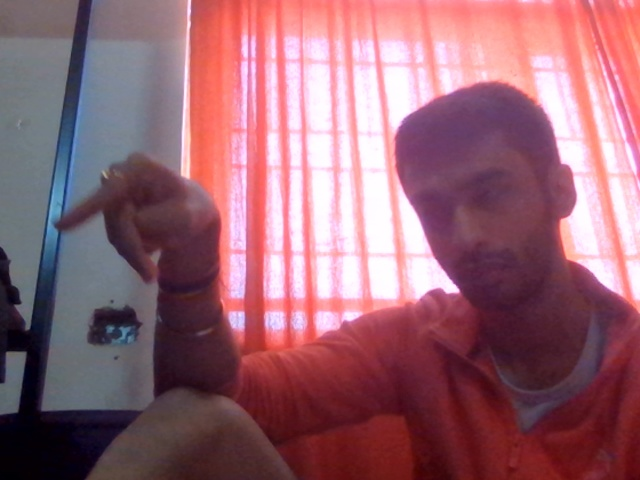P: (52, 134, 279, 340)
